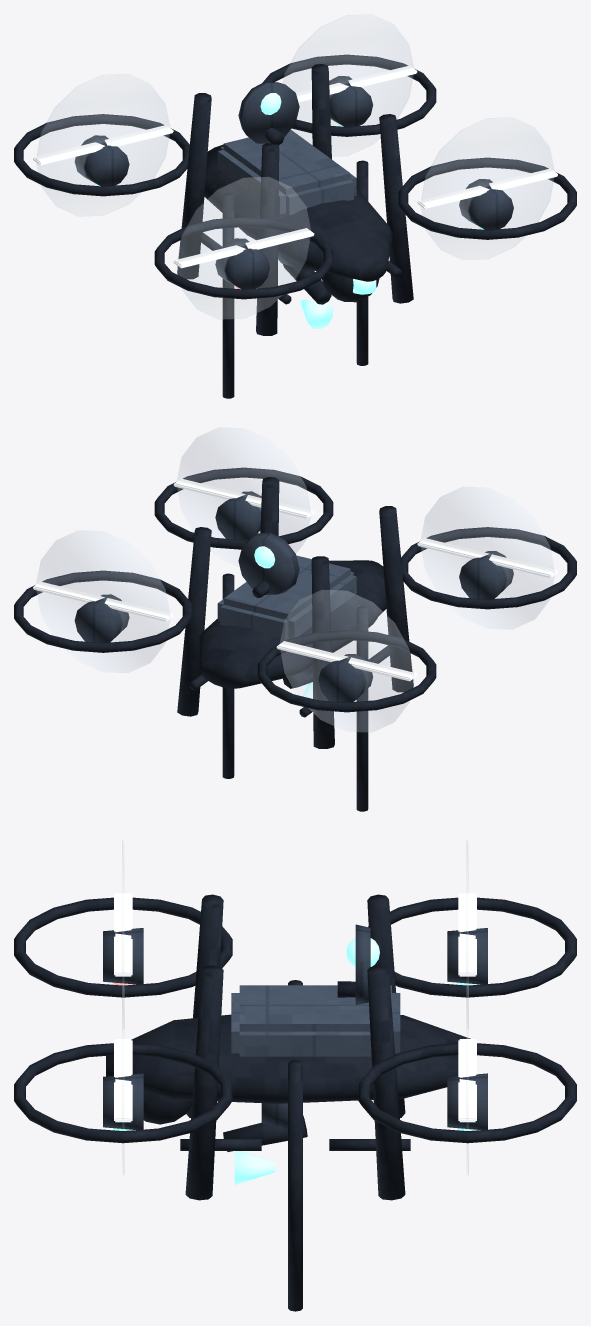
File: air_repair_drone.glb
The picture shows the model from 3 angles, top to bottom: view 1: azimuth 30°, elevation 25°; view 2: azimuth 150°, elevation 25°; view 3: azimuth 270°, elevation 25°; orthographic projection. The views are drawn at different scales.
Visible parts, largest first — view 1: RotorDisc_1, RotorDisc_2, RotorDisc_0, RotorDisc_3, DroneBody, BatteryPack, PropGuard_1, PropGuard_0, PropGuard_2, Arm_0, Arm_2, PropGuard_3 (+16 smaller); view 2: RotorDisc_2, RotorDisc_1, RotorDisc_3, RotorDisc_0, DroneBody, BatteryPack, PropGuard_2, PropGuard_3, PropGuard_1, PropGuard_0, Arm_3, Arm_1 (+13 smaller); view 3: DroneBody, BatteryPack, PropGuard_0, PropGuard_3, PropGuard_1, Arm_0, Arm_3, PropGuard_2, SkidRail_1, Arm_1, Arm_2, RotorBlade_2 (+14 smaller).
Part boxes in pixels (x1=…): RotorDisc_1: x1=177, y1=177, x2=310, y2=319; RotorDisc_2: x1=36, y1=74, x2=170, y2=216; RotorDisc_0: x1=420, y1=117, x2=554, y2=259; RotorDisc_3: x1=283, y1=14, x2=413, y2=156; DroneBody: x1=204, y1=144, x2=392, y2=281; BatteryPack: x1=217, y1=129, x2=356, y2=215; PropGuard_1: x1=154, y1=217, x2=333, y2=299; PropGuard_0: x1=398, y1=157, x2=576, y2=239; PropGuard_2: x1=14, y1=114, x2=189, y2=196; Arm_0: x1=379, y1=114, x2=413, y2=303; Arm_2: x1=177, y1=93, x2=211, y2=279; PropGuard_3: x1=262, y1=54, x2=436, y2=136; RotorDisc_2: x1=280, y1=590, x2=413, y2=732; RotorDisc_1: x1=420, y1=487, x2=554, y2=629; RotorDisc_3: x1=36, y1=530, x2=170, y2=672; RotorDisc_0: x1=177, y1=427, x2=310, y2=566; DroneBody: x1=198, y1=560, x2=386, y2=688; BatteryPack: x1=217, y1=555, x2=356, y2=640; PropGuard_2: x1=257, y1=630, x2=436, y2=712; PropGuard_3: x1=14, y1=570, x2=192, y2=652; PropGuard_1: x1=401, y1=527, x2=576, y2=609; PropGuard_0: x1=154, y1=467, x2=333, y2=549; Arm_3: x1=177, y1=527, x2=211, y2=716; Arm_1: x1=379, y1=506, x2=413, y2=692; DroneBody: x1=106, y1=1014, x2=470, y2=1103; BatteryPack: x1=231, y1=985, x2=400, y2=1056; PropGuard_0: x1=14, y1=1043, x2=232, y2=1143; PropGuard_3: x1=358, y1=1043, x2=576, y2=1143; PropGuard_1: x1=14, y1=897, x2=232, y2=997; Arm_0: x1=185, y1=965, x2=223, y2=1200; Arm_3: x1=367, y1=965, x2=405, y2=1200; PropGuard_2: x1=368, y1=897, x2=576, y2=997; SkidRail_1: x1=288, y1=1060, x2=302, y2=1311; Arm_1: x1=186, y1=894, x2=223, y2=1117; Arm_2: x1=367, y1=894, x2=405, y2=1117; RotorBlade_2: x1=458, y1=893, x2=476, y2=976.
Size of the model in its own units: 1.67 by 1.13 by 1.66.
Materials: 8 (3 with a texture image).
